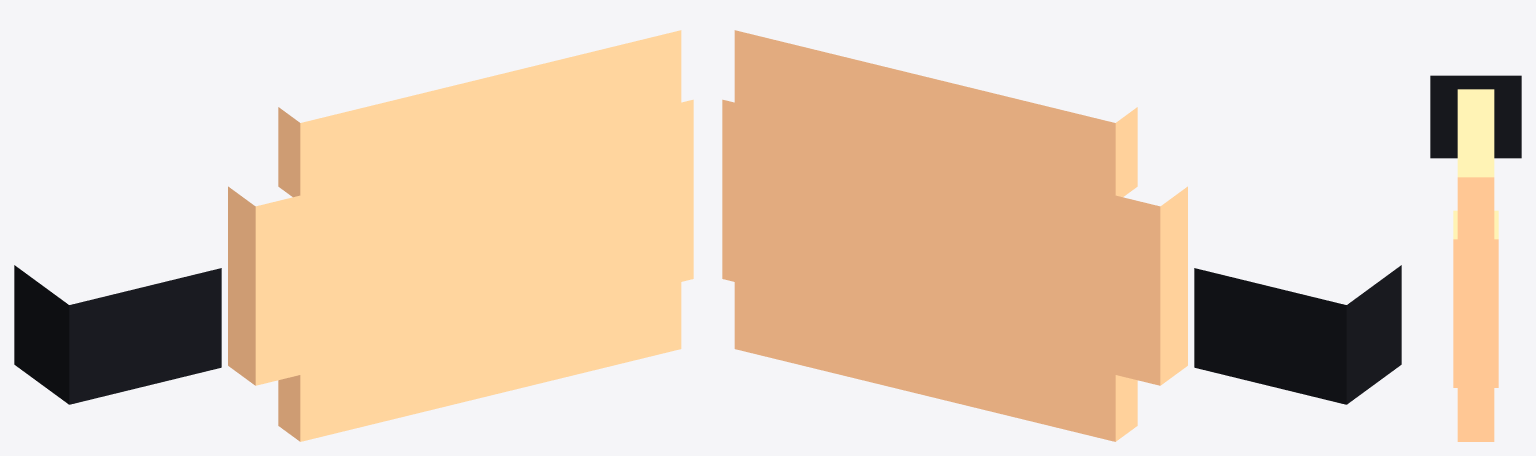
File: lifestealer.glb
3 renders of one model, left to right at view 1: azimuth 30°, elevation 25°; view 2: azimuth 150°, elevation 25°; view 3: azimuth 270°, elevation 25°, orthographic. The views are drawn at different scales.
Parts seen in each view (by area): view 1: lifestealer-edge, lifestealer-claw-2, lifestealer-claw-3, lifestealer-grip; view 2: lifestealer-edge, lifestealer-claw-2, lifestealer-claw-3, lifestealer-grip; view 3: lifestealer-edge, lifestealer-claw-2, lifestealer-grip, lifestealer-claw-3.
Boxes of the visible parts, x1,y1,x2,y2 form: lifestealer-edge: (228, 99, 693, 385); lifestealer-claw-2: (278, 30, 681, 197); lifestealer-claw-3: (278, 282, 681, 441); lifestealer-grip: (14, 265, 221, 404); lifestealer-edge: (722, 99, 1187, 385); lifestealer-claw-2: (734, 30, 1137, 197); lifestealer-claw-3: (734, 282, 1137, 441); lifestealer-grip: (1194, 265, 1401, 404); lifestealer-edge: (1453, 210, 1498, 387); lifestealer-claw-2: (1457, 89, 1494, 239); lifestealer-grip: (1430, 75, 1521, 158); lifestealer-claw-3: (1457, 388, 1494, 441).
Bounding box in the file's own units: 0.67 × 0.32 × 0.1.
